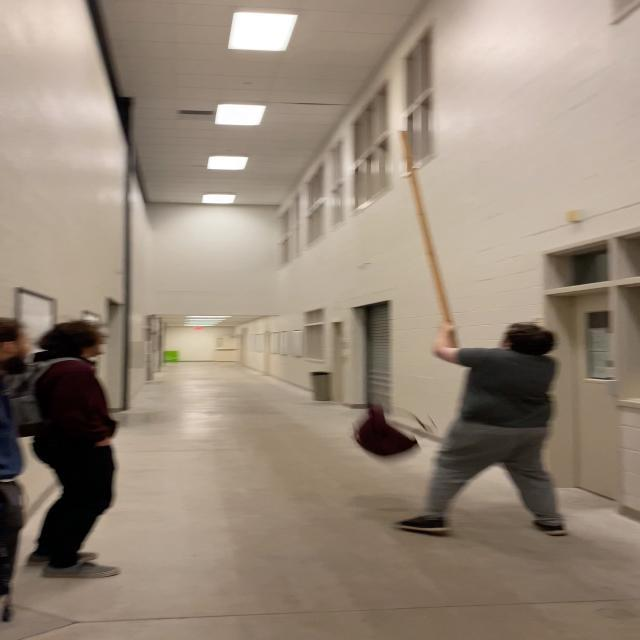Backpacks: (356, 412, 418, 458)
